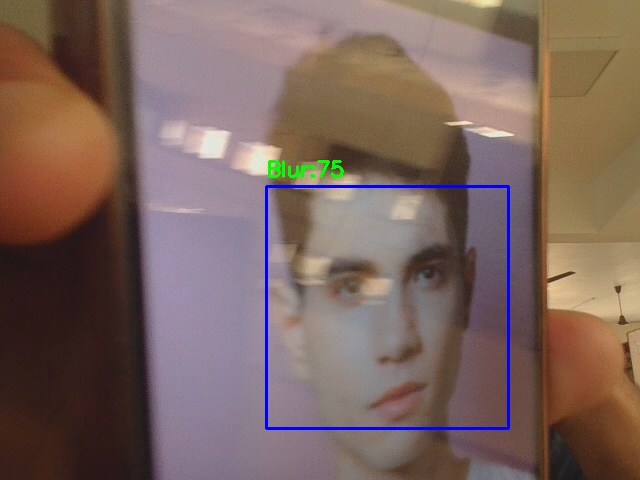fake: (266, 186, 508, 428)
